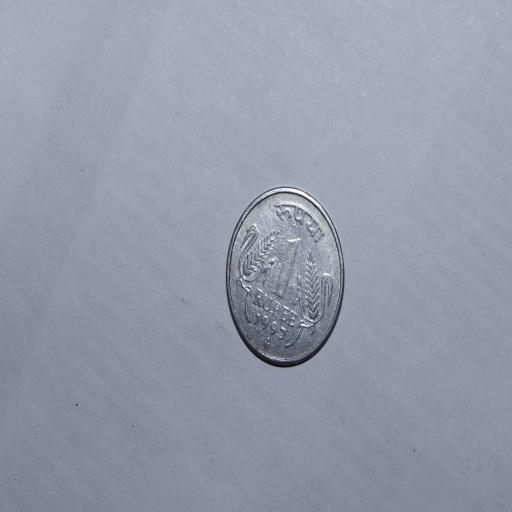rupee1: (221, 183, 346, 368)
